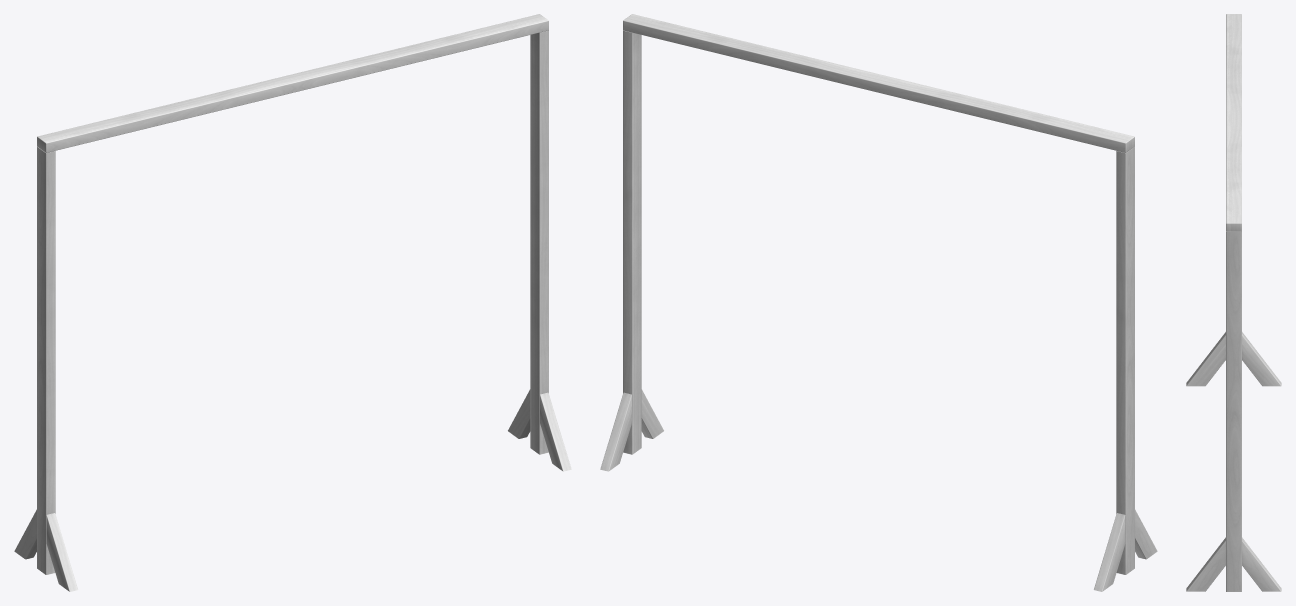
The model's file is EventArch01_2.FBX.
3 views of the same model, side by side, from view 1: azimuth 30°, elevation 25°; view 2: azimuth 150°, elevation 25°; view 3: azimuth 270°, elevation 25° (orthographic). The views are drawn at different scales.
Parts seen in each view (by area): view 1: EventArch01_2; view 2: EventArch01_2; view 3: EventArch01_2.
Part boxes in pixels (<box>): EventArch01_2: <box>14,14,571,591</box>; EventArch01_2: <box>600,14,1157,591</box>; EventArch01_2: <box>1186,14,1281,591</box>.
Size of what is drawn, in the model's own units: 3.12 by 2.56 by 0.5992.
